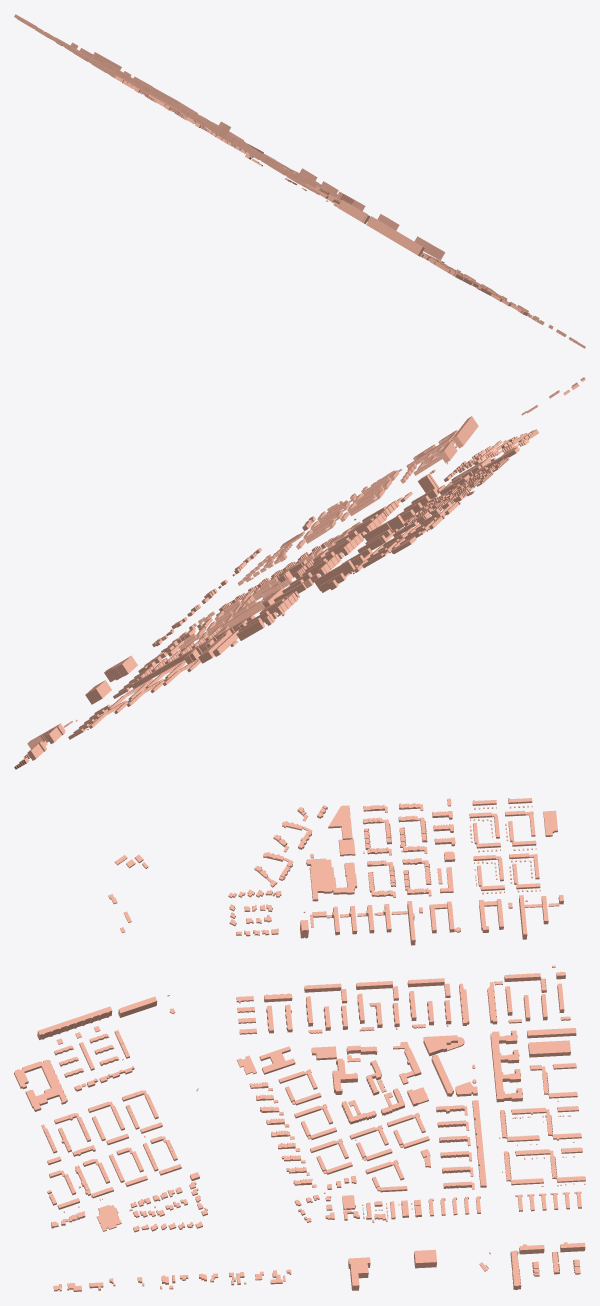
3 views of the same model, one above another, from view 1: azimuth 30°, elevation 25°; view 2: azimuth 150°, elevation 25°; view 3: azimuth 270°, elevation 25° (orthographic). The views are drawn at different scales.
Size of the model in its own units: 1039 by 758 by 1275.
